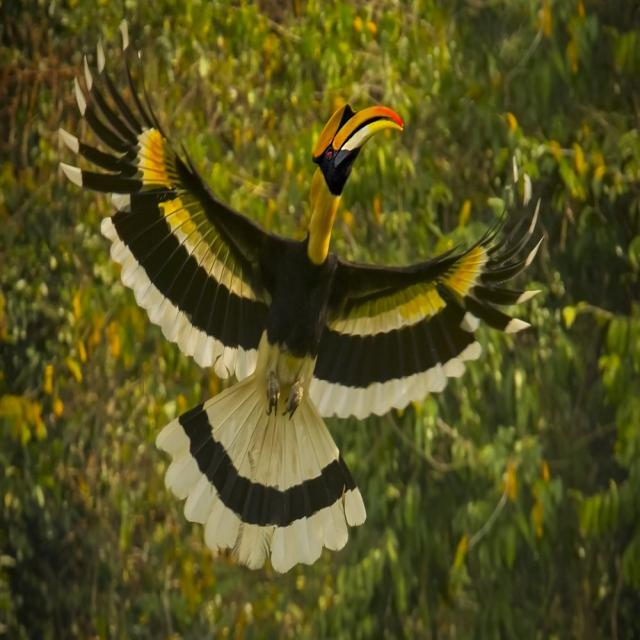Hornbill: (69, 50, 535, 591)
